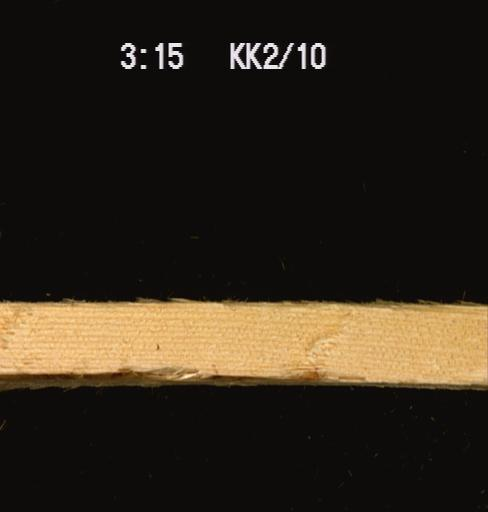wave: (0, 360, 358, 384)
